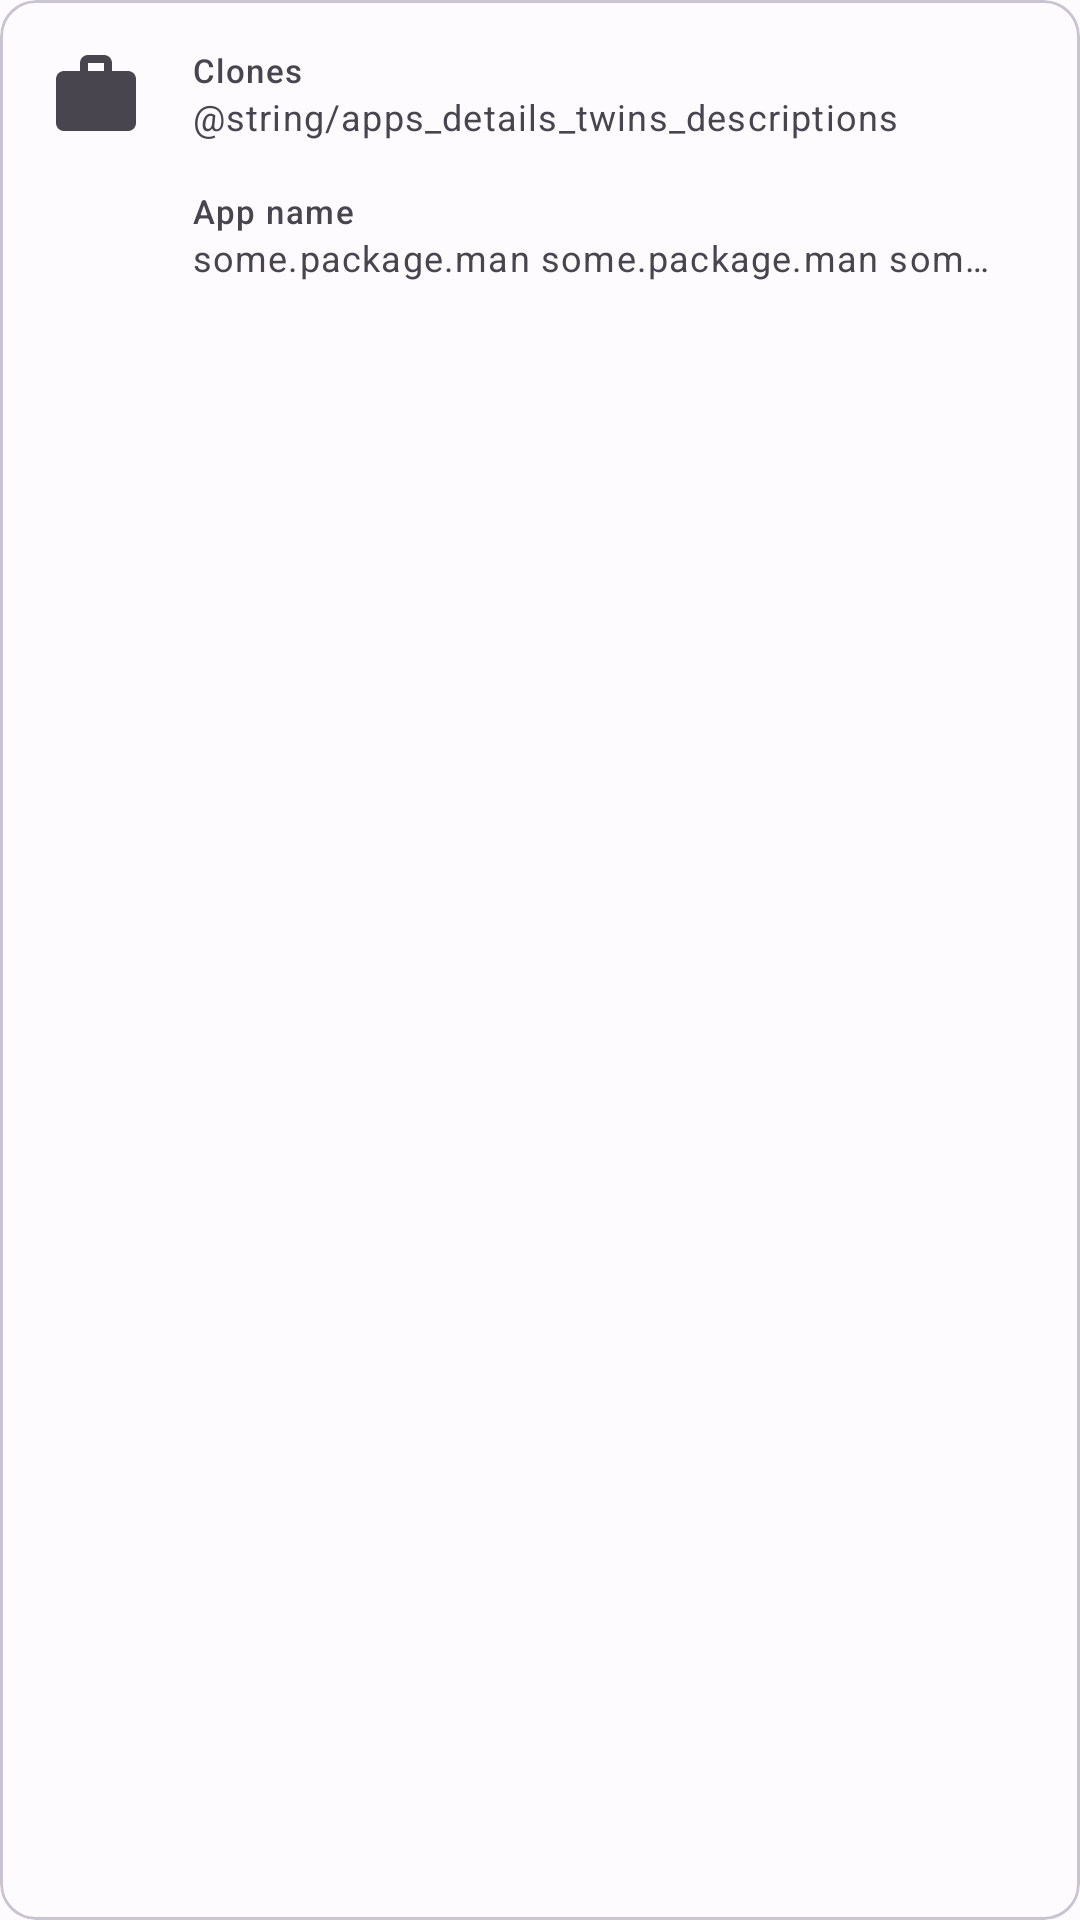

Icons on this 1080w x 1920h Android screen, each with the point to tap as (x,y):
work: (96,93)
